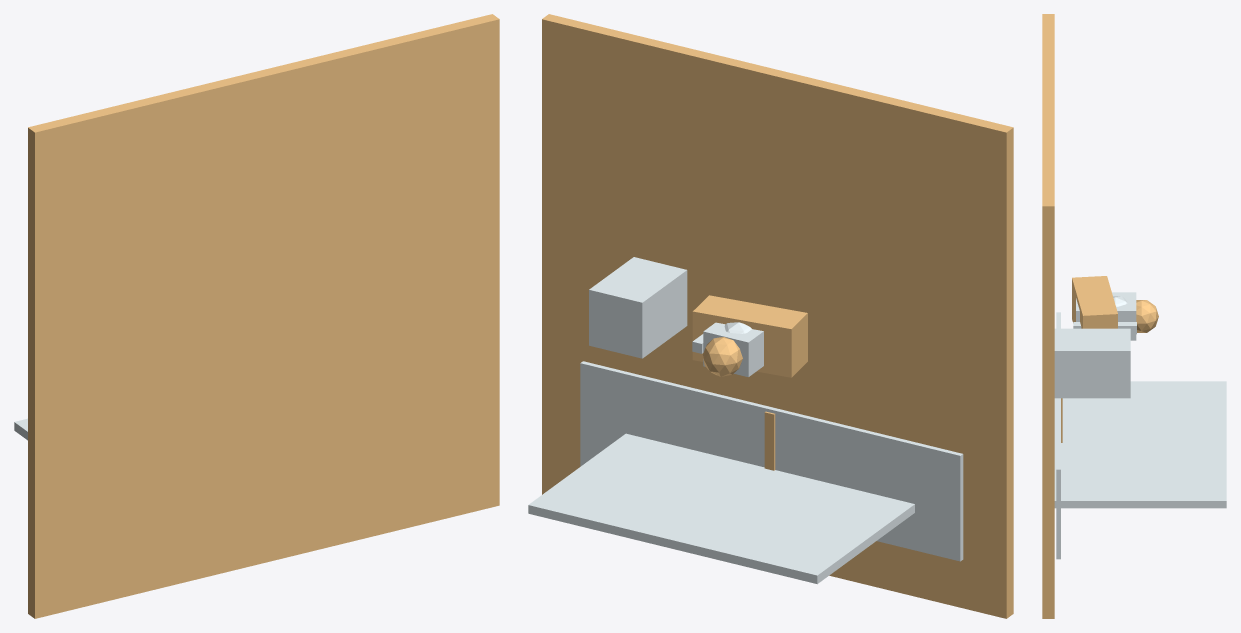
Rendered from knockout-club-kit.glb.
3 views of the same model, side by side, from view 1: azimuth 30°, elevation 25°; view 2: azimuth 150°, elevation 25°; view 3: azimuth 270°, elevation 25° (orthographic). The views are drawn at different scales.
Visible parts, largest first — view 1: ENVIRONMENT_GROUND; view 2: ENVIRONMENT_GROUND, ENVIRONMENT_GATE, PROFILE_ENVIRONMENT_DETAIL, PROFILE_OBSTACLE_DETAIL, PLAYER_BODY, PROFILE_PLAYER_DETAIL, PROFILE_PLAYER_HEAD, PROFILE_ENVIRONMENT_MARKING; view 3: ENVIRONMENT_GATE, ENVIRONMENT_GROUND, PROFILE_OBSTACLE_DETAIL, PLAYER_BODY, PROFILE_ENVIRONMENT_DETAIL, PROFILE_PLAYER_DETAIL, PROFILE_PLAYER_HEAD.
Part boxes in pixels (x1,y1,x2,y2): ENVIRONMENT_GROUND: [28, 14, 499, 618]; ENVIRONMENT_GROUND: [542, 14, 1013, 618]; ENVIRONMENT_GATE: [528, 433, 914, 584]; PROFILE_ENVIRONMENT_DETAIL: [580, 361, 963, 561]; PROFILE_OBSTACLE_DETAIL: [589, 257, 687, 358]; PLAYER_BODY: [692, 295, 807, 377]; PROFILE_PLAYER_DETAIL: [703, 322, 763, 377]; PROFILE_PLAYER_HEAD: [703, 337, 742, 376]; PROFILE_ENVIRONMENT_MARKING: [764, 411, 775, 470]; ENVIRONMENT_GATE: [1054, 381, 1226, 508]; ENVIRONMENT_GROUND: [1042, 14, 1054, 618]; PROFILE_OBSTACLE_DETAIL: [1054, 328, 1130, 398]; PLAYER_BODY: [1072, 276, 1117, 328]; PROFILE_ENVIRONMENT_DETAIL: [1056, 312, 1060, 559]; PROFILE_PLAYER_DETAIL: [1076, 292, 1136, 340]; PROFILE_PLAYER_HEAD: [1136, 300, 1158, 332].
Size of what is drawn, in the model's own units: 9 by 9 by 3.64.
